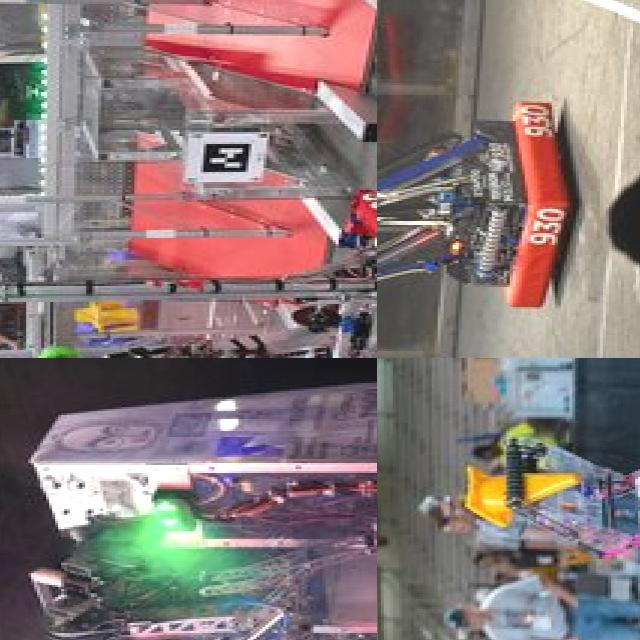FRC-Robots: (0, 358, 377, 640), (0, 167, 377, 358), (377, 56, 564, 358), (468, 358, 640, 565)
